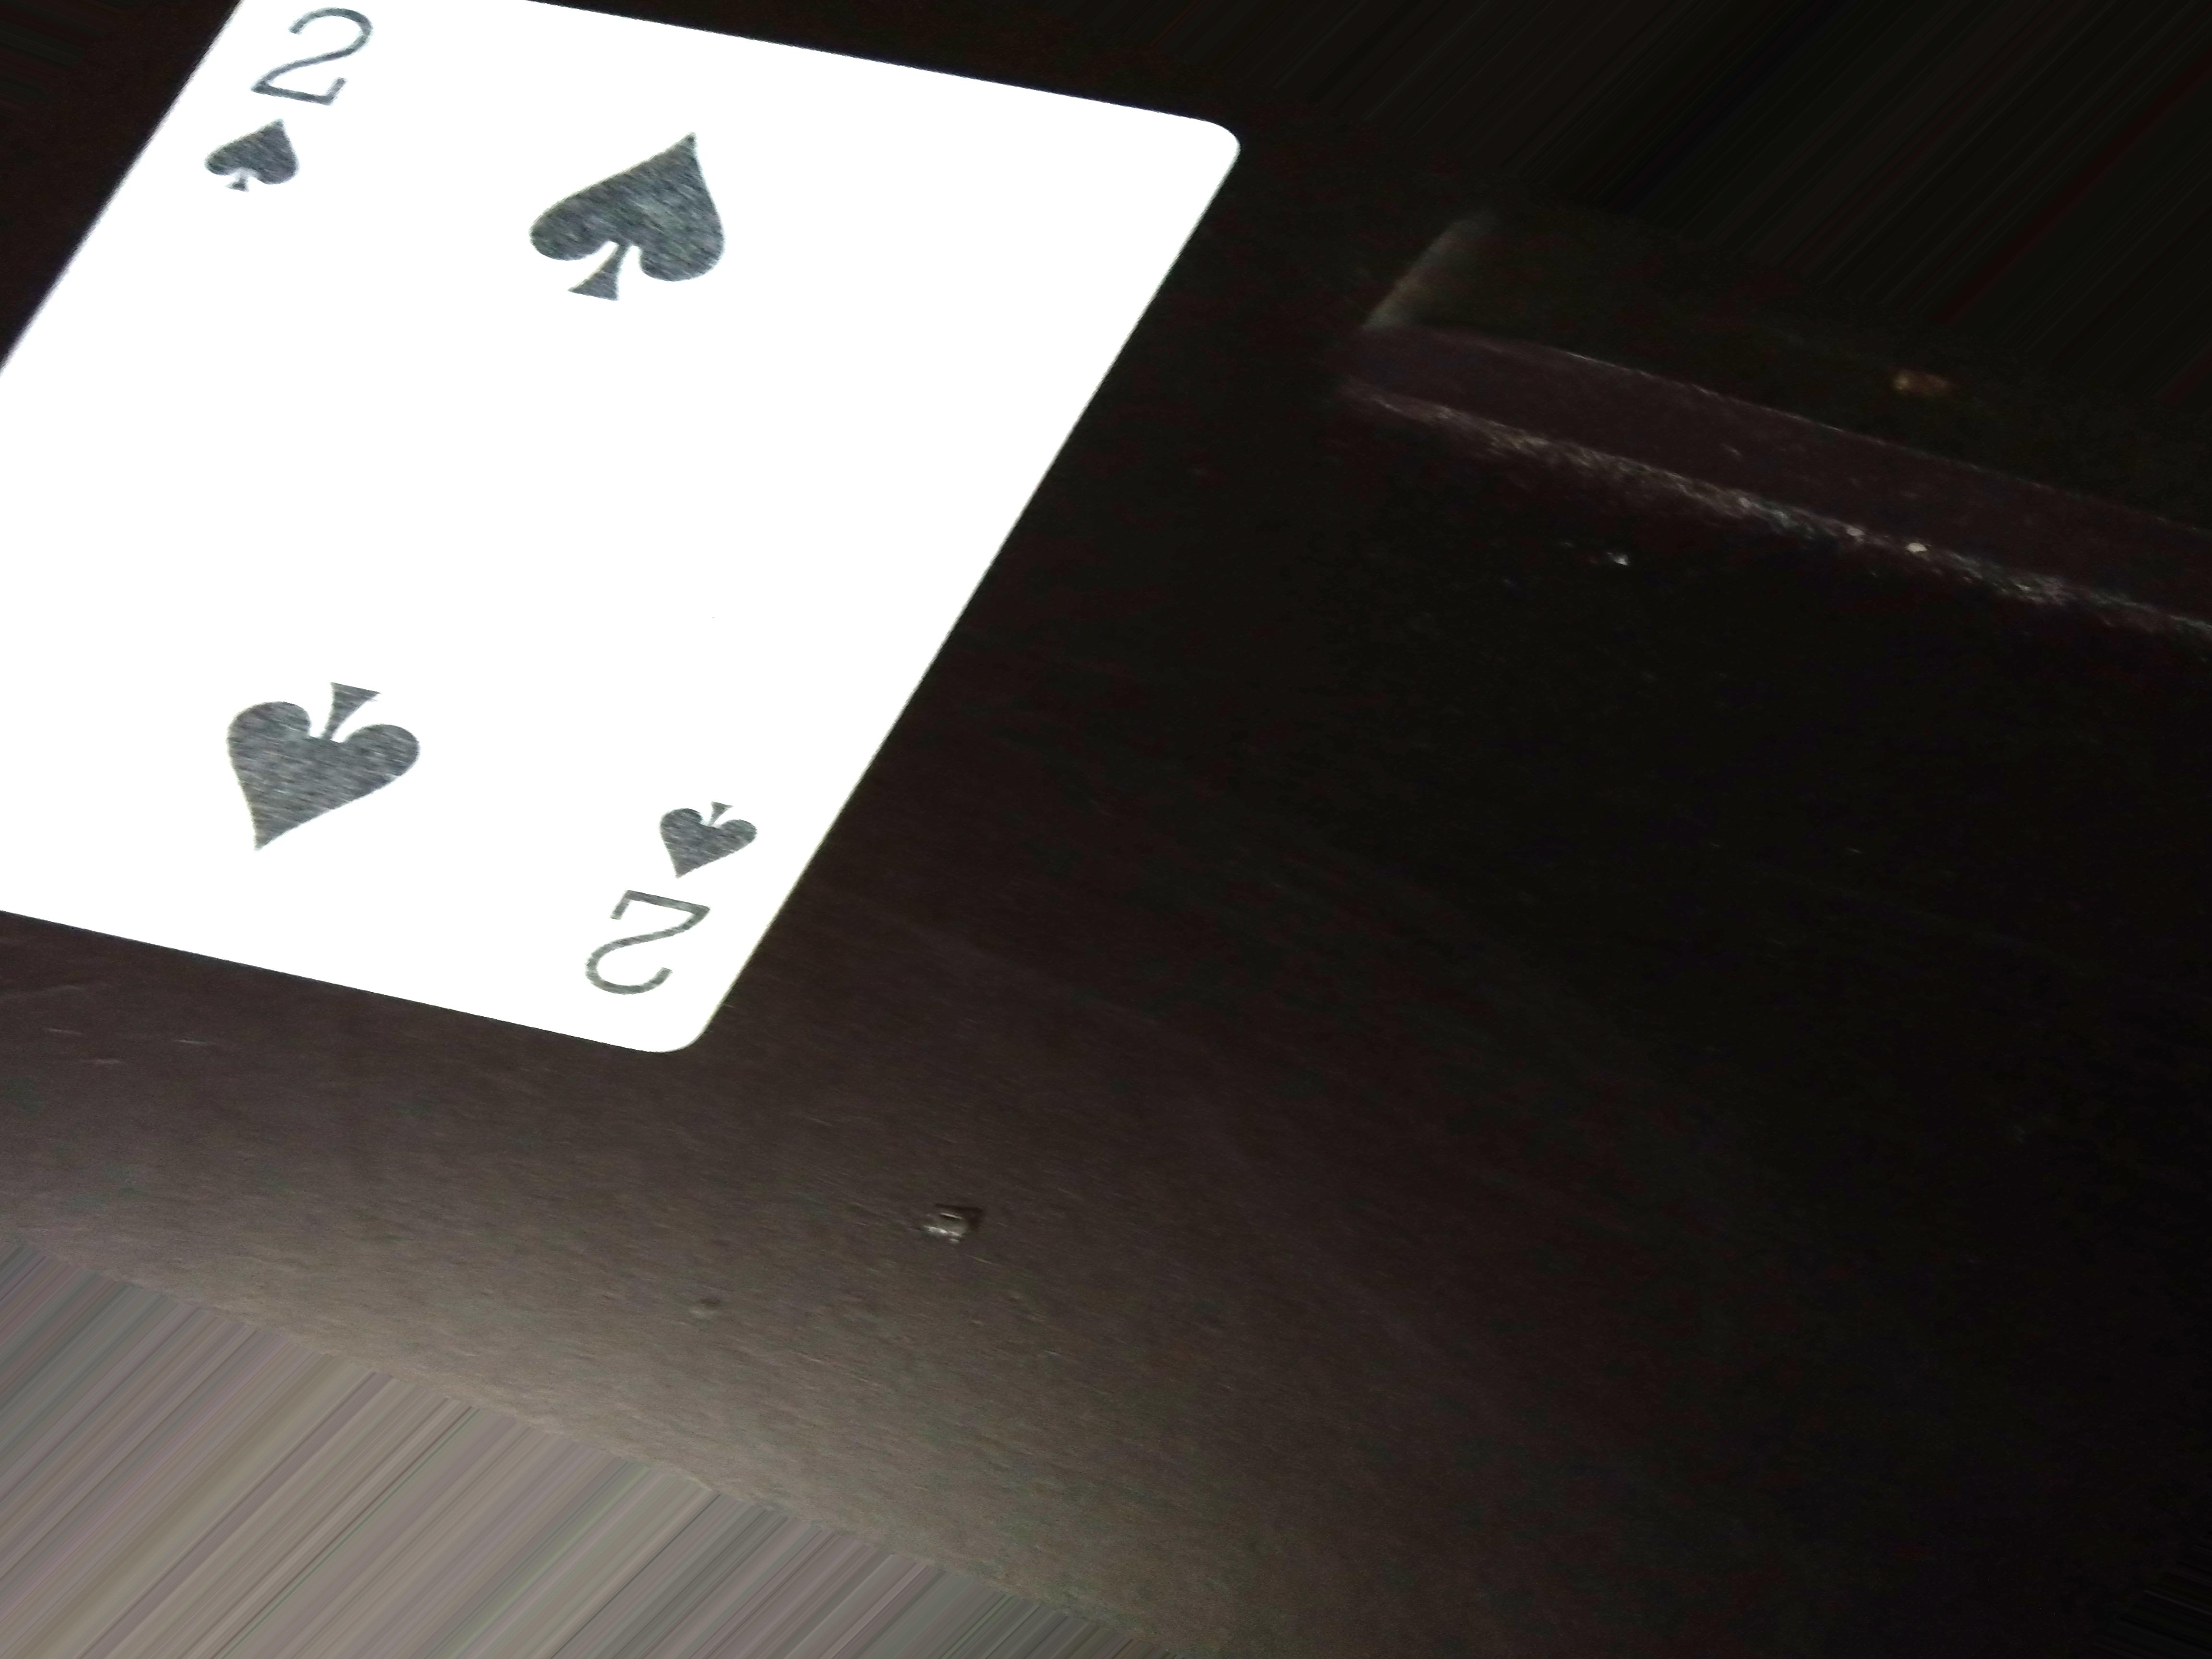2S: (559, 760, 756, 1021)
